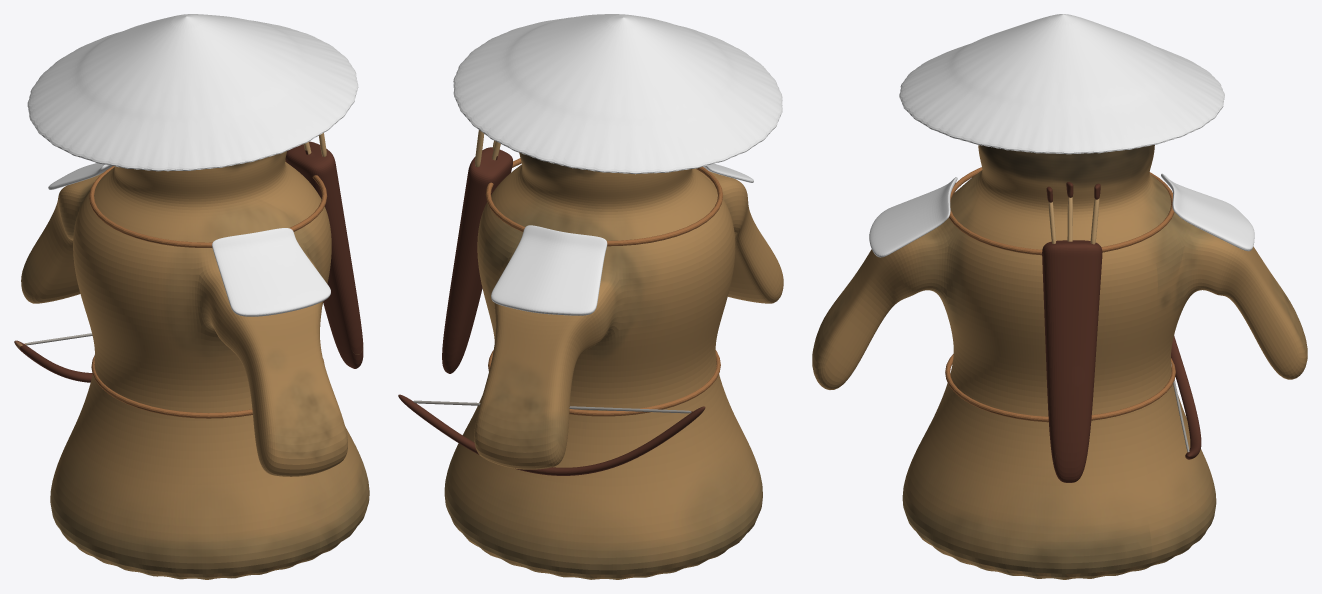
The model's file is Ranger.fbx.
3 renders of one model, left to right at view 1: azimuth 30°, elevation 25°; view 2: azimuth 150°, elevation 25°; view 3: azimuth 270°, elevation 25°, orthographic.
Parts seen in each view (by area): view 1: Unit.001, Ranger, Drow, BeltRang; view 2: Unit.001, Ranger, Drow, BeltRang; view 3: Unit.001, Ranger, Drow, BeltRang.
Part boxes in pixels (x1,y1,x2,y2): Unit.001: (21, 151, 369, 579); Ranger: (27, 14, 358, 316); Drow: (14, 133, 363, 382); BeltRang: (89, 160, 327, 418); Unit.001: (444, 152, 783, 579); Ranger: (453, 14, 782, 315); Drow: (398, 130, 705, 475); BeltRang: (485, 158, 722, 416); Unit.001: (812, 145, 1307, 579); Ranger: (869, 14, 1254, 257); Drow: (1042, 182, 1201, 482); BeltRang: (945, 167, 1175, 422).
Size of the model in its own units: 275 by 440 by 385.
